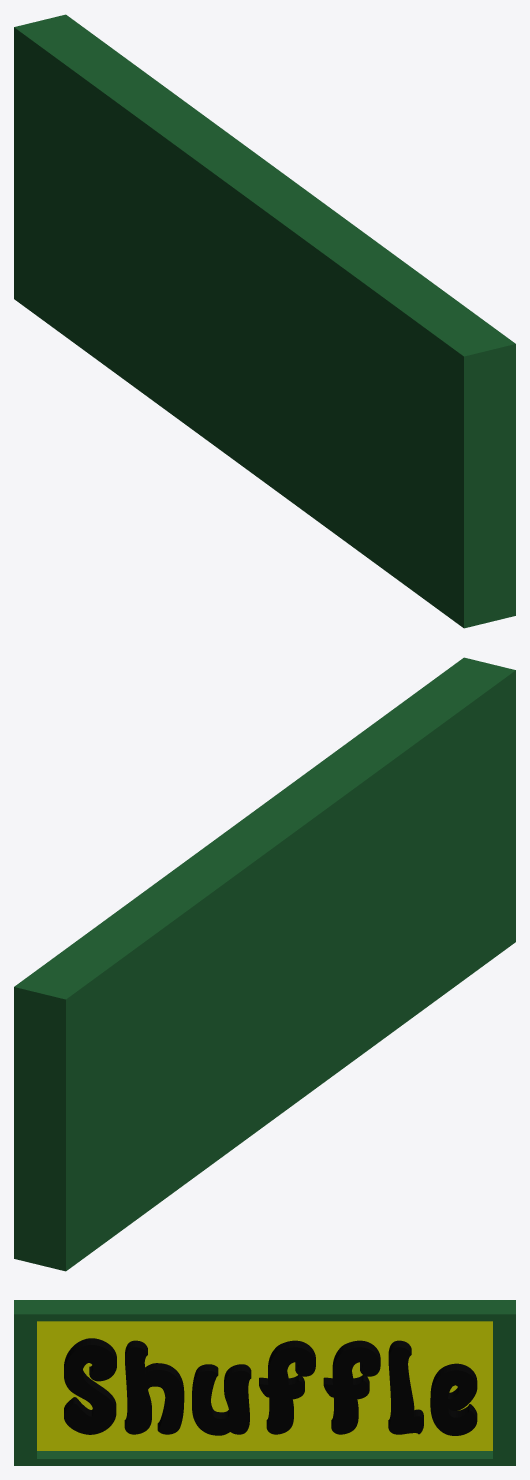
Rendered from Buttonshuffle.fbx.
The picture shows the model from 3 angles, top to bottom: view 1: azimuth 30°, elevation 25°; view 2: azimuth 150°, elevation 25°; view 3: azimuth 270°, elevation 25°; orthographic projection. The views are drawn at different scales.
Parts seen in each view (by area): view 1: Cube; view 2: Cube; view 3: Cube, Text.
Part boxes in pixels (bbox=[...]): Cube: bbox=[14, 14, 515, 628]; Cube: bbox=[14, 657, 515, 1271]; Cube: bbox=[14, 1300, 515, 1465]; Text: bbox=[64, 1338, 477, 1435].
Size of the model in its own units: 40 by 200 by 600.
